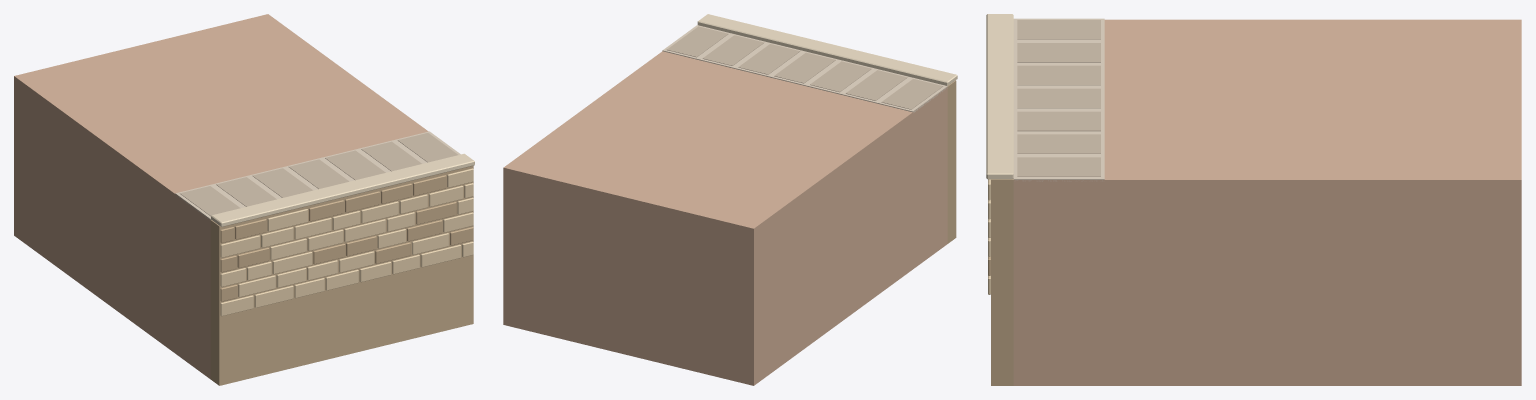
The model's file is terrace_block.glb.
3 views of the same model, side by side, from view 1: azimuth 30°, elevation 25°; view 2: azimuth 150°, elevation 25°; view 3: azimuth 270°, elevation 25° (orthographic). The views are drawn at different scales.
Parts seen in each view (by area): view 1: terrace_block; view 2: terrace_block; view 3: terrace_block.
Boxes of the visible parts, x1,y1,x2,y2 form: terrace_block: [14, 14, 474, 385]; terrace_block: [503, 14, 957, 385]; terrace_block: [986, 14, 1521, 385].
Bounding box in the file's own units: 10 × 6.18 × 14.12.
